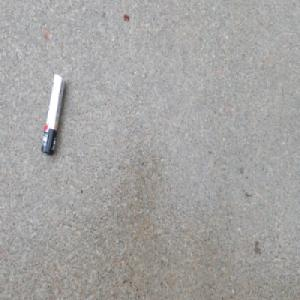Battery: (39, 71, 66, 157)
